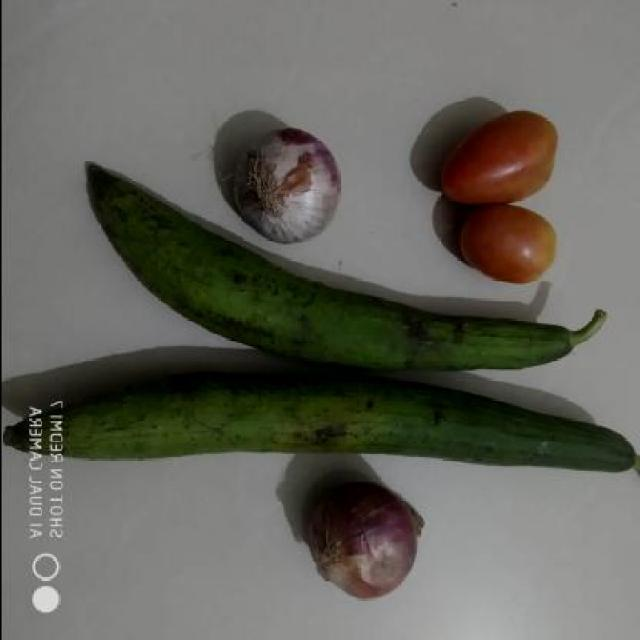Onion: (294, 471, 431, 617), (231, 119, 351, 248)
Sponge Gourd: (11, 308, 640, 477)
Tomato: (424, 108, 558, 212), (451, 205, 558, 288)
